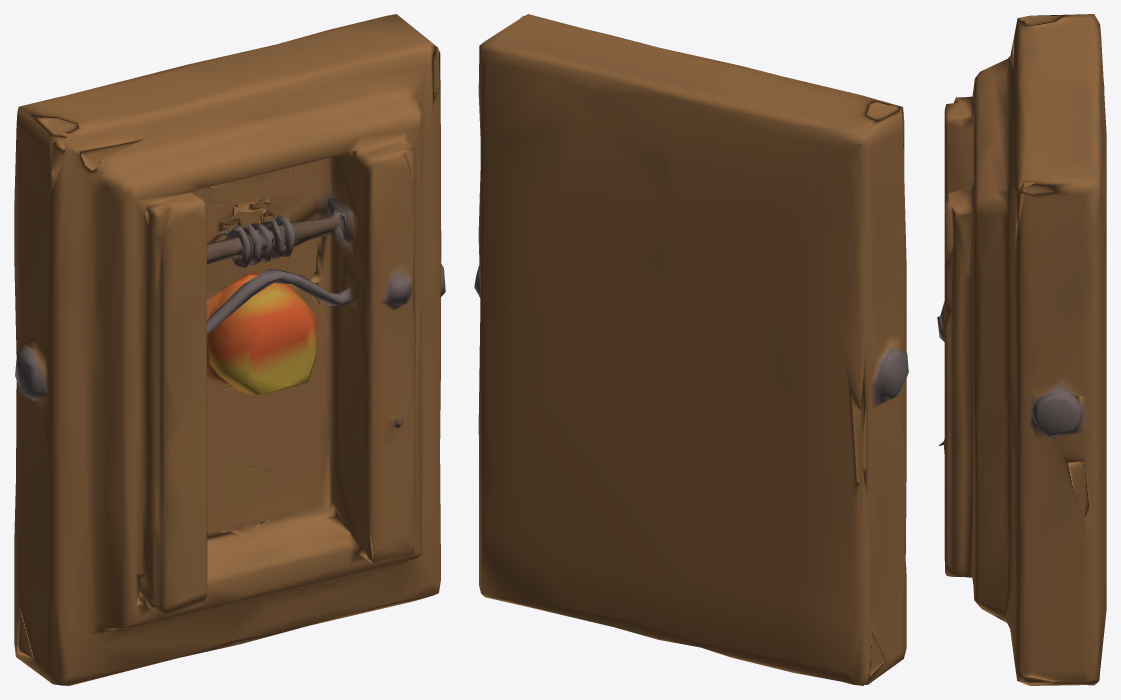
File: gen3d-mousetrap-lod0.glb
The picture shows the model from 3 angles, left to right: view 1: azimuth 30°, elevation 25°; view 2: azimuth 150°, elevation 25°; view 3: azimuth 270°, elevation 25°; orthographic projection. The views are drawn at different scales.
Parts seen in each view (by area): view 1: part_0; view 2: part_0; view 3: part_0.
Part boxes in pixels (left/top/right/bottom): part_0: left=14, top=14, right=445, bottom=685; part_0: left=474, top=14, right=908, bottom=685; part_0: left=937, top=14, right=1106, bottom=685.
Size of the model in its own units: 0.7789 by 1 by 0.304.
